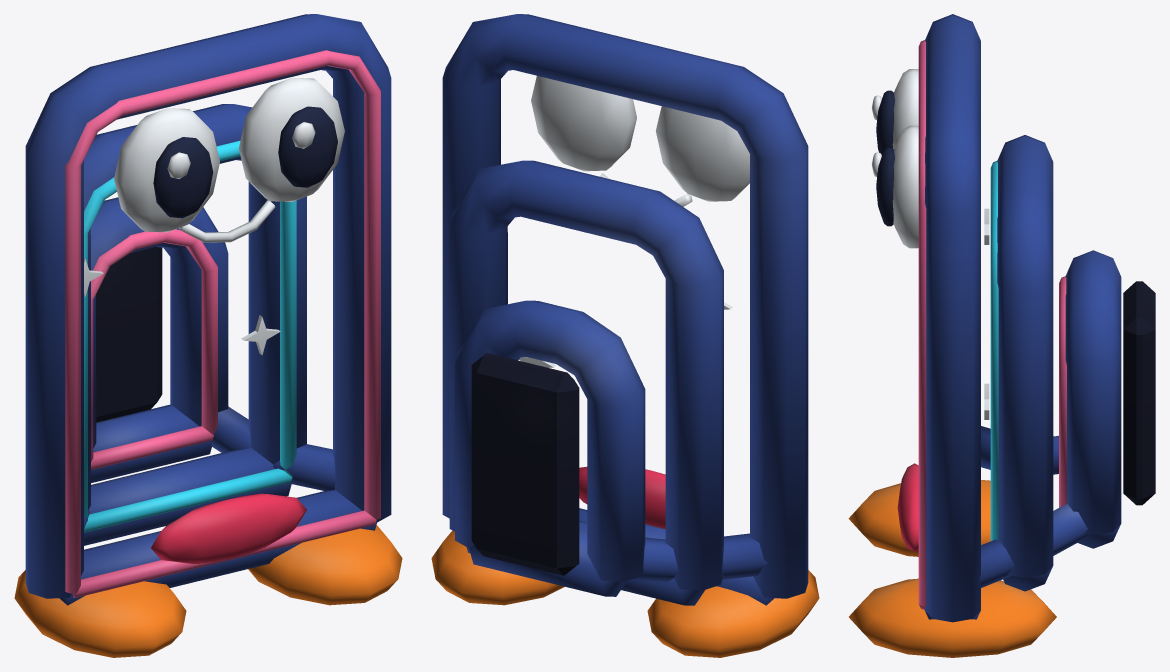
The model's file is InfiniteOccupied.fbx.
The picture shows the model from 3 angles, left to right: view 1: azimuth 30°, elevation 25°; view 2: azimuth 150°, elevation 25°; view 3: azimuth 270°, elevation 25°; orthographic projection. The views are drawn at different scales.
Parts seen in each view (by area): view 1: InfiniteOccupied; view 2: InfiniteOccupied; view 3: InfiniteOccupied.
Boxes of the visible parts, x1,y1,x2,y2 form: InfiniteOccupied: (14, 14, 402, 657); InfiniteOccupied: (431, 14, 819, 657); InfiniteOccupied: (848, 14, 1155, 657).
Bounding box in the file's own units: 1.98 × 3 × 1.57.
1 material, 1 textured.
